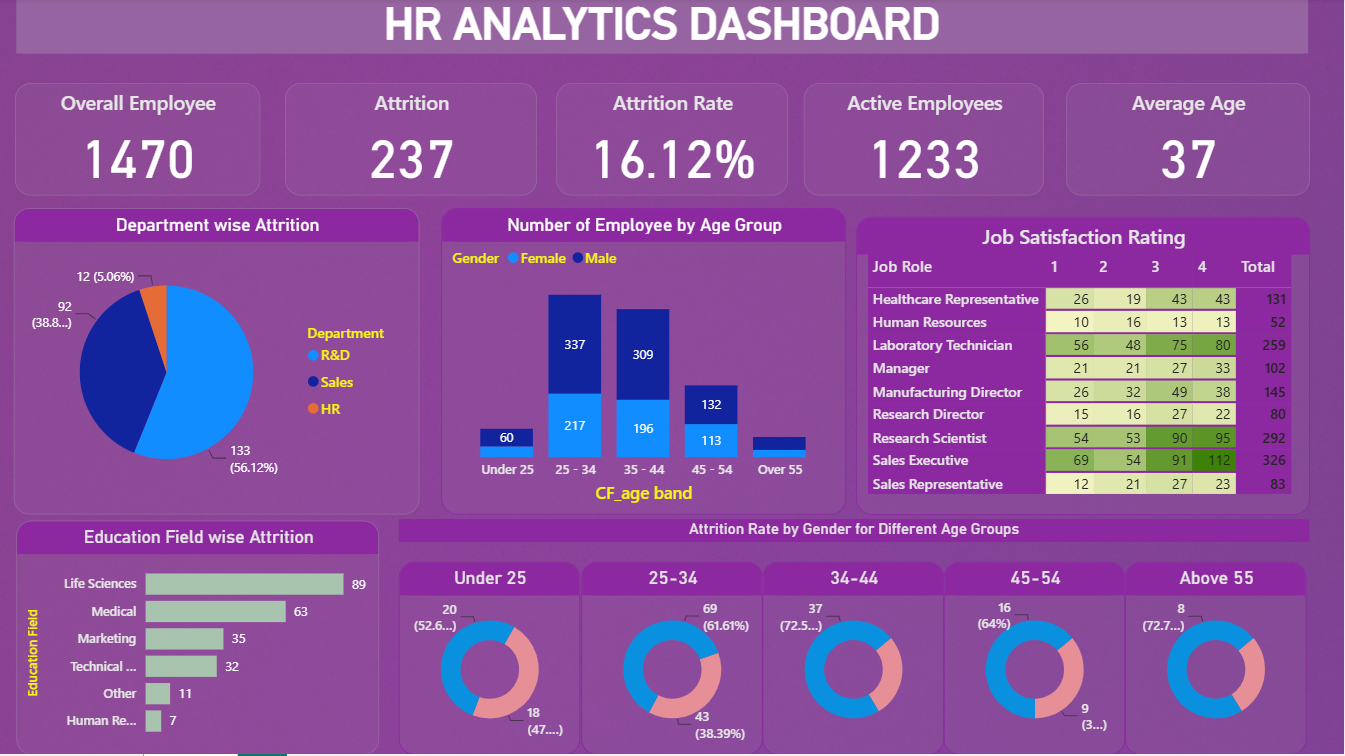

What the dashboard file says about the page in this screenshot:
{"tool":"powerbi","page":{"name":"Page 1","canvas":[1280,720],"ordinal":0},"visuals":[{"type":"card","title":"Overall Employee","fields":{"Values":["Sum(HR data.Employee Count)"]},"box":[13.7,80.6,233.3,107],"z":0},{"type":"card","title":"Attrition","fields":{"Values":["Sum(HR data.Attrirtion Count)"]},"box":[271.7,80.6,240.1,107],"z":1000},{"type":"card","title":"Attrition Rate","fields":{"Values":["HR data.Attrition Rate"]},"box":[529.7,80.6,220.9,107],"z":2000},{"type":"card","title":"Active Employees","fields":{"Values":["HR data.Active Employees"]},"box":[765.7,80.6,229.2,107],"z":3000},{"type":"card","title":"Average Age","fields":{"Values":["Avg(HR data.Age)"]},"box":[1015.4,80.6,231.9,107],"z":4000},{"type":"pieChart","title":"Department wise Attrition","fields":{"Category":["HR data.Department"],"Y":["Sum(HR data.Attrition Count)"]},"box":[13.2,200.5,386.6,291.8],"z":5000},{"type":"columnChart","title":"Number of Employee by Age Group","fields":{"Category":["HR data.CF_age band"],"Y":["Sum(HR data.Employee Count)"],"Series":["HR data.Gender"]},"box":[419.9,200,385.6,292.3],"z":6000},{"type":"pivotTable","title":"Job Satisfaction Rating","fields":{"Rows":["HR data.Job Role"],"Columns":["HR data.Job Satisfaction"],"Values":["Sum(HR data.Employee Count)"]},"box":[815.1,208.2,432.2,284],"z":7000},{"type":"barChart","title":"Education Field wise Attrition","fields":{"Category":["HR data.Education Field"],"Y":["Sum(HR data.Attrition Count)"]},"box":[15.9,497.3,345.8,223],"z":8000},{"type":"textbox","title":"Attrition Rate by Gender for Different Age Groups","box":[380.1,496.7,867.2,22],"z":9000},{"type":"donutChart","title":"Under 25","fields":{"Category":["HR data.Gender"],"Series":["HR data.CF_age band"],"Y":["Sum(HR data.Attrition Count)"]},"box":[380.1,536.5,173,183.9],"z":10000},{"type":"donutChart","title":"25-34","fields":{"Category":["HR data.Gender"],"Series":["HR data.CF_age band"],"Y":["Sum(HR data.Attrition Count)"]},"box":[553,536.5,172.9,183.9],"z":11000},{"type":"donutChart","title":"34-44","fields":{"Category":["HR data.Gender"],"Series":["HR data.CF_age band"],"Y":["Sum(HR data.Attrition Count)"]},"box":[725.9,536.5,172.9,183.9],"z":12000},{"type":"donutChart","title":"45-54","fields":{"Category":["HR data.Gender"],"Series":["HR data.CF_age band"],"Y":["Sum(HR data.Attrition Count)"]},"box":[898.8,536.5,172.9,183.9],"z":13000},{"type":"donutChart","title":"Above 55","fields":{"Category":["HR data.Gender"],"Series":["HR data.CF_age band"],"Y":["Sum(HR data.Attrition Count)"]},"box":[1071.7,536.5,172.9,183.9],"z":14000},{"type":"textbox","title":"HR ANALYTICS DASHBOARD","box":[15.7,0,1230.1,52.7],"z":15000}]}

Visuals, with their boxes in screenshot pixels (x1, y1, x2, y2), scaled from the page's 1280x720 canvas onto the 1345x756 screenshot:
"Overall Employee" card: [14,85,260,197]
"Attrition" card: [285,85,538,197]
"Attrition Rate" card: [557,85,789,197]
"Active Employees" card: [805,85,1045,197]
"Average Age" card: [1067,85,1311,197]
"Department wise Attrition" pieChart: [14,211,420,517]
"Number of Employee by Age Group" columnChart: [441,210,846,517]
"Job Satisfaction Rating" pivotTable: [856,219,1311,517]
"Education Field wise Attrition" barChart: [17,522,380,755]
"Attrition Rate by Gender for Different Age Groups" textbox: [399,522,1311,545]
"Under 25" donutChart: [399,563,581,755]
"25-34" donutChart: [581,563,763,755]
"34-44" donutChart: [763,563,944,755]
"45-54" donutChart: [944,563,1126,755]
"Above 55" donutChart: [1126,563,1308,755]
"HR ANALYTICS DASHBOARD" textbox: [16,0,1309,55]
